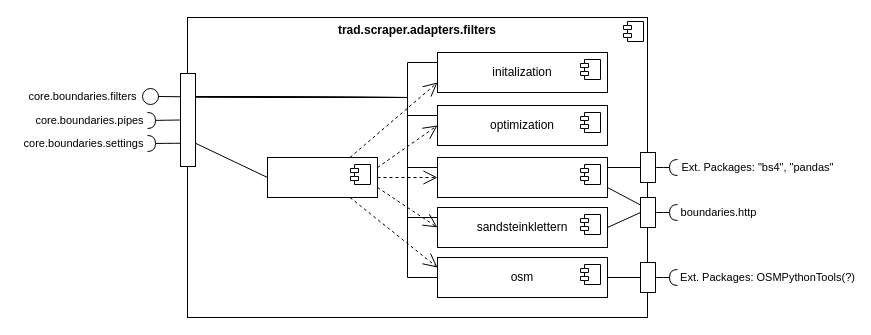
Image size: 871x335. Some labels were removed from this diagram. The centre of each missing label's shape, as x and y in pixels:
"factory" belongs at [322,177].
"teufelsturm" belongs at [522,177].
